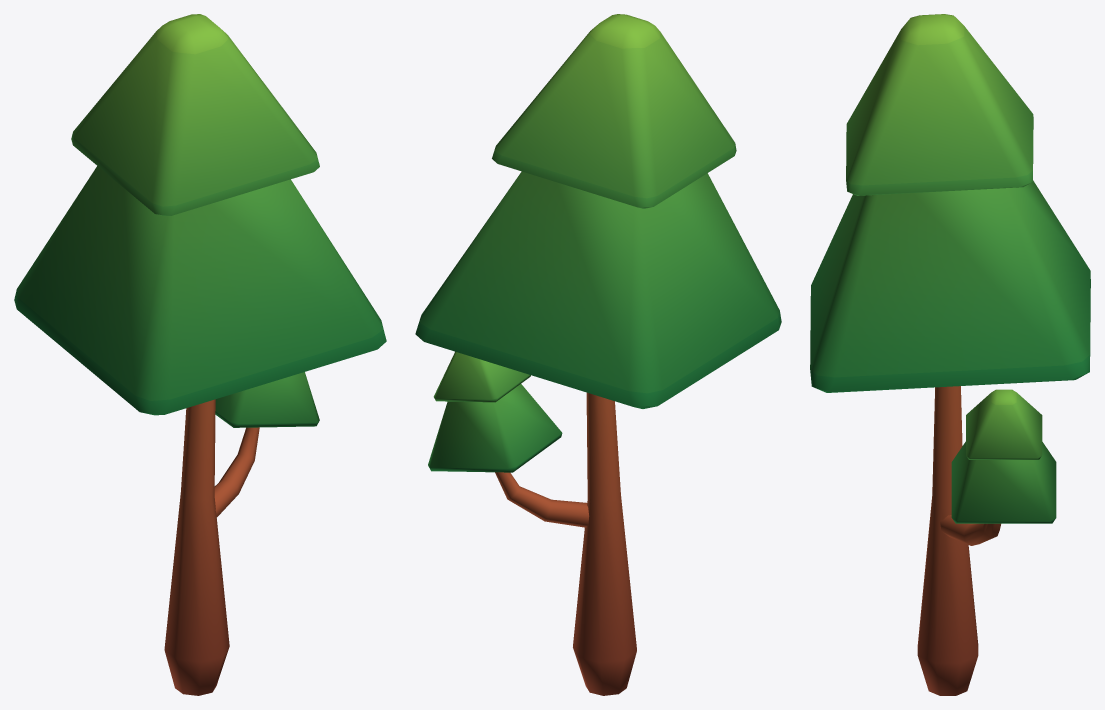
Rendered from kk-tree-acacia.glb.
The picture shows the model from 3 angles, left to right: view 1: azimuth 30°, elevation 25°; view 2: azimuth 150°, elevation 25°; view 3: azimuth 270°, elevation 25°; orthographic projection.
Visible parts, largest first — view 1: Tree_4_A_Color1; view 2: Tree_4_A_Color1; view 3: Tree_4_A_Color1.
Part boxes in pixels (box(x1,y1,x2,y2)): Tree_4_A_Color1: box(14, 14, 386, 695); Tree_4_A_Color1: box(415, 14, 781, 695); Tree_4_A_Color1: box(810, 14, 1090, 695).
Size of the model in its own units: 2.01 by 5.27 by 2.
Materials: 1 (1 with a texture image).
